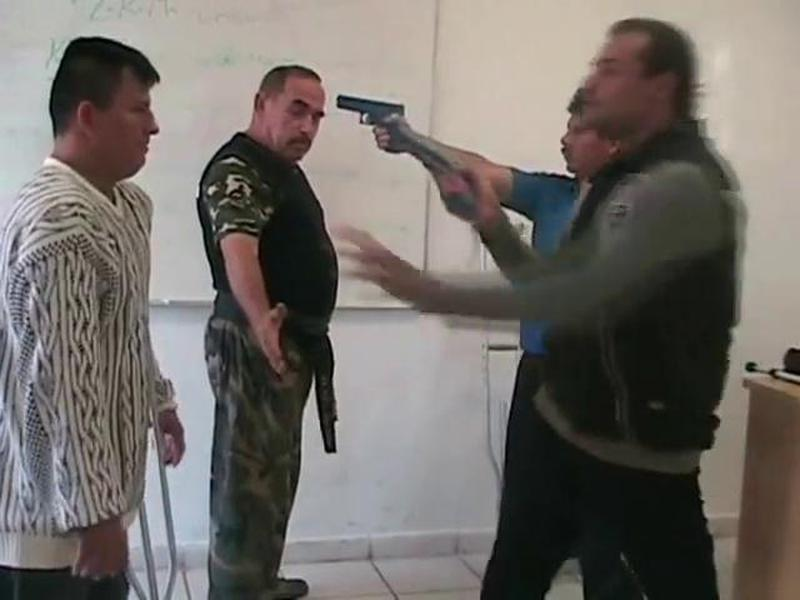Pistola: (332, 89, 411, 150)
